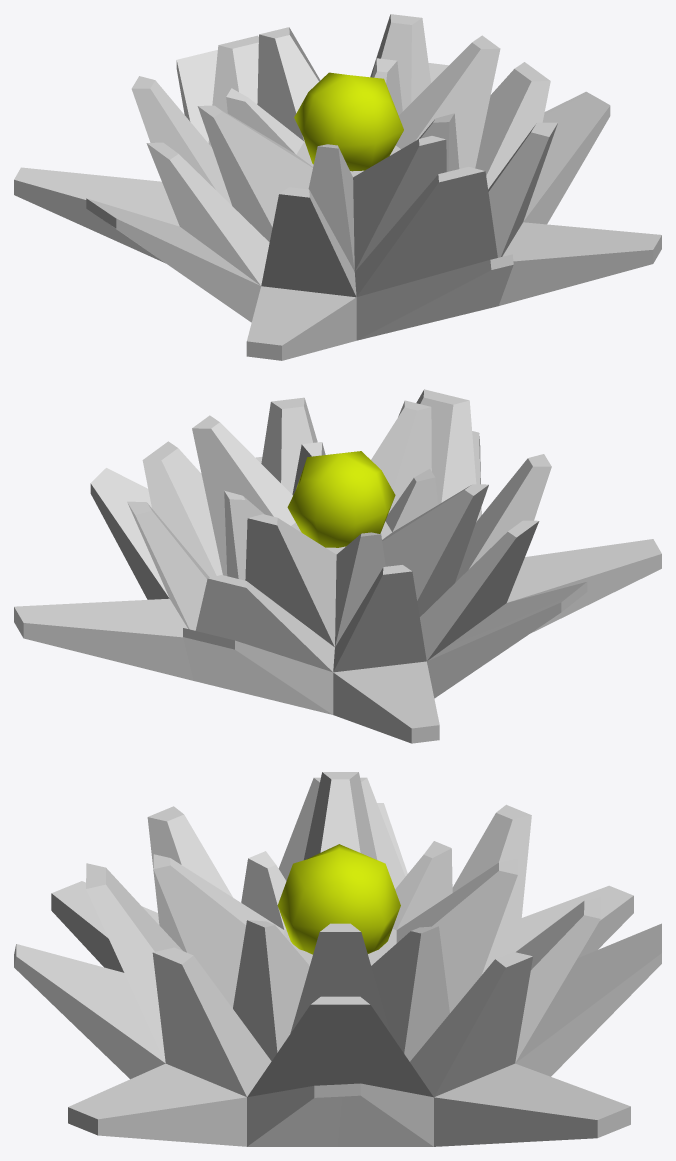
File: Environment_Flower.fbx
3 renders of one model, top to bottom at view 1: azimuth 30°, elevation 25°; view 2: azimuth 150°, elevation 25°; view 3: azimuth 270°, elevation 25°, orthographic. The views are drawn at different scales.
Parts seen in each view (by area): view 1: pCube170; view 2: pCube170; view 3: pCube170.
Boxes of the visible parts, left/top/right/bottom form: pCube170: left=14, top=14, right=661, bottom=360; pCube170: left=14, top=389, right=661, bottom=743; pCube170: left=14, top=772, right=661, bottom=1146.
Size of the model in its own units: 215 by 80.54 by 213.
